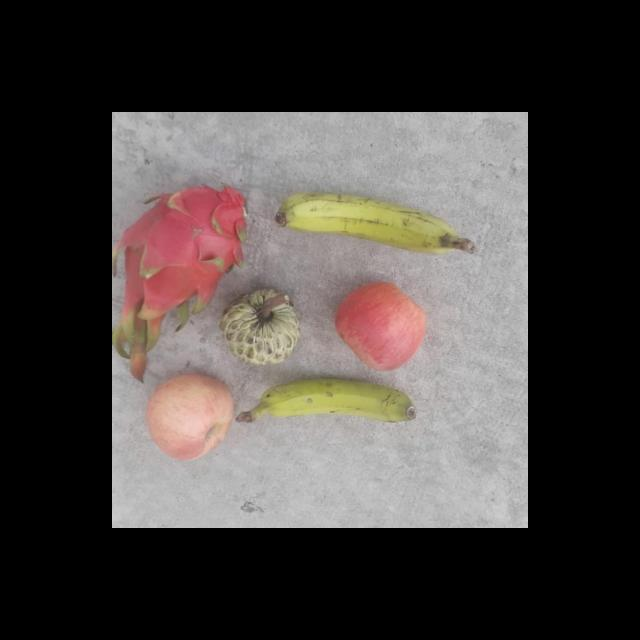Sakya fruit: (216, 285, 304, 369)
apple: (144, 371, 238, 465), (338, 277, 427, 371)
banana: (272, 188, 454, 258), (253, 375, 418, 431)
pitaya: (125, 176, 253, 332)
